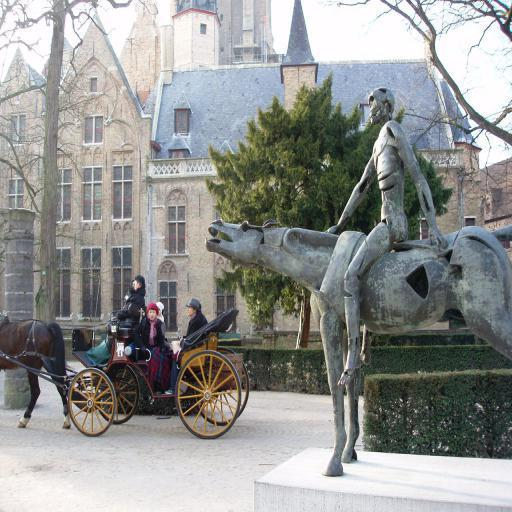horse: (0, 313, 72, 432)
